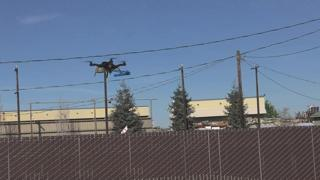UAV: (86, 58, 131, 77)
